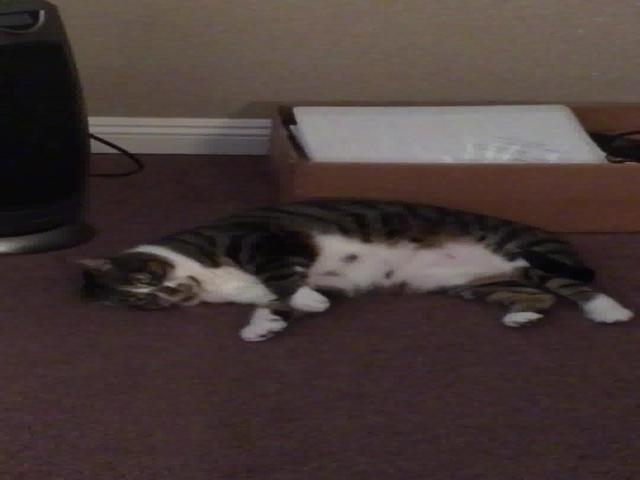playdoh: (63, 198, 634, 342)
